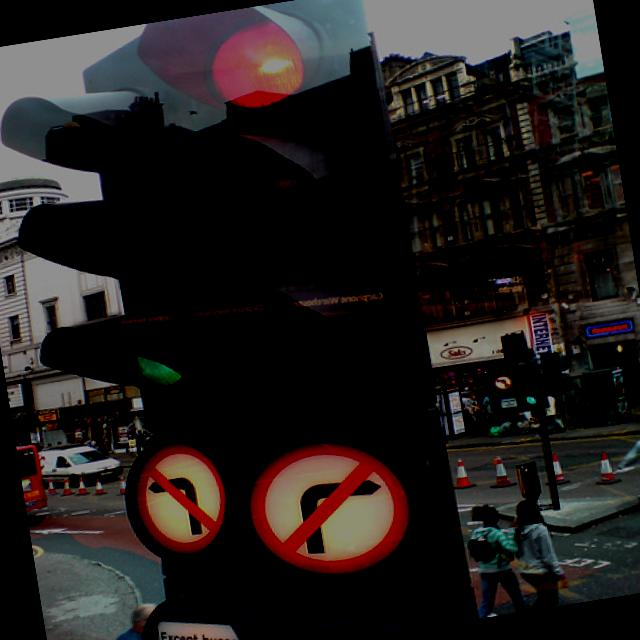Vehicle: (36, 439, 126, 492), (16, 444, 47, 509)
